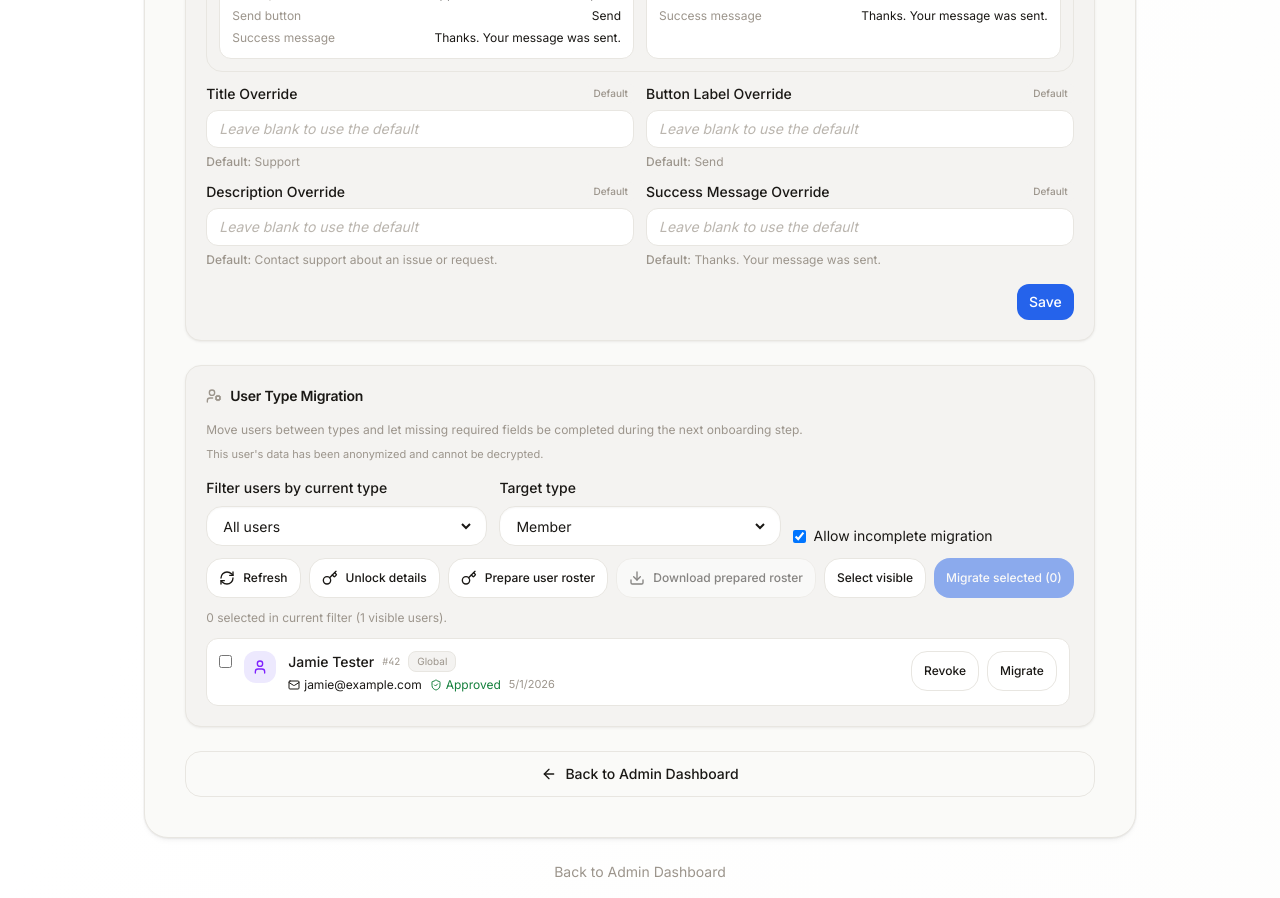
Test: AdminUserConfig › shows User Type migration results as a named status note after a batch migration
(page scrolled)
expect the heading "User Type Migration" is shown: met, box [206,387,363,404]
expect the text "Jamie Tester" is shown: met, box [288,652,374,672]
Click the button "Select visible". click: (875, 578)
box: [824,558,926,598]
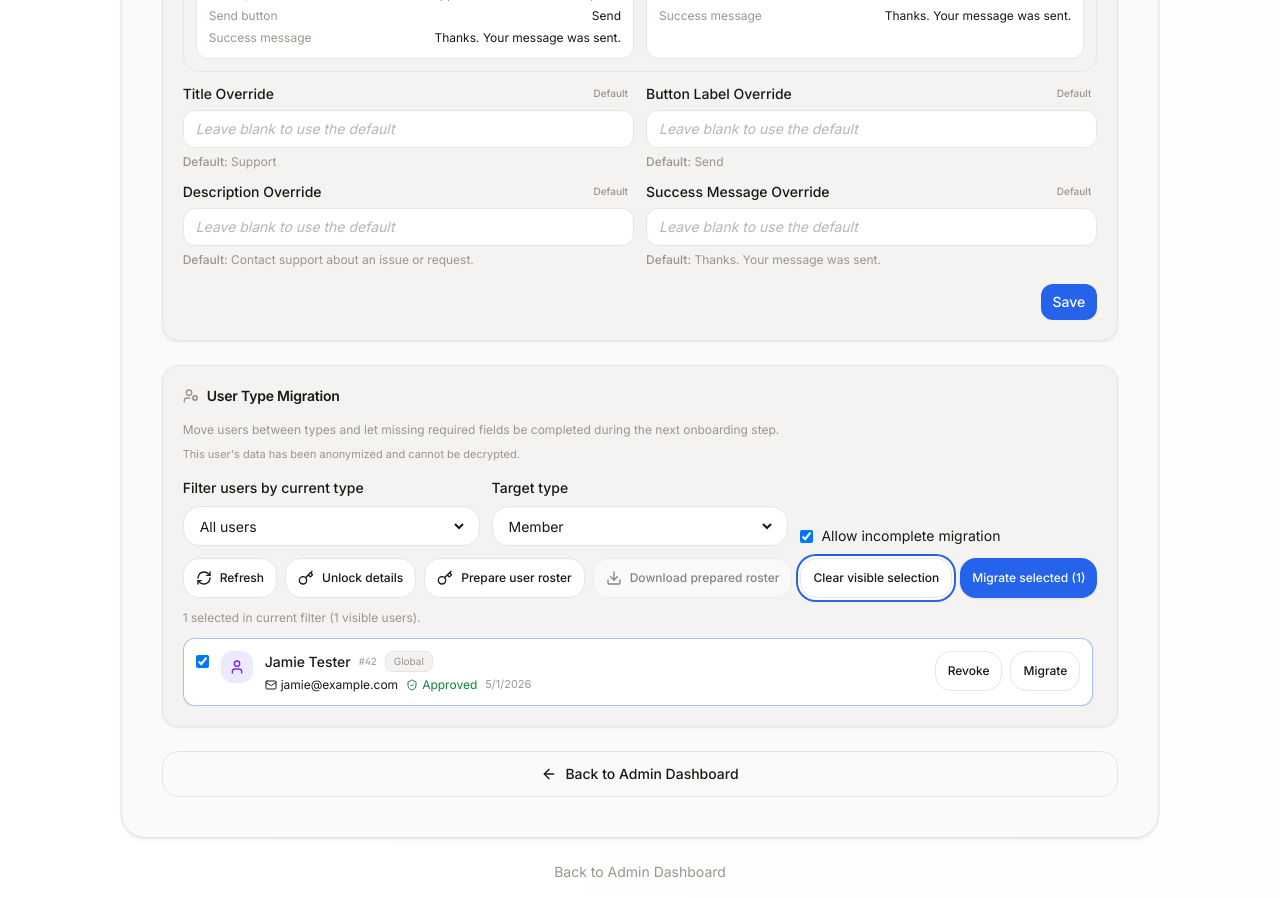
expect the button "Migrate selected (1)" is enabled: met
Click the button "Migrate selected (1)". click: (1029, 578)
box: [960,558,1097,598]
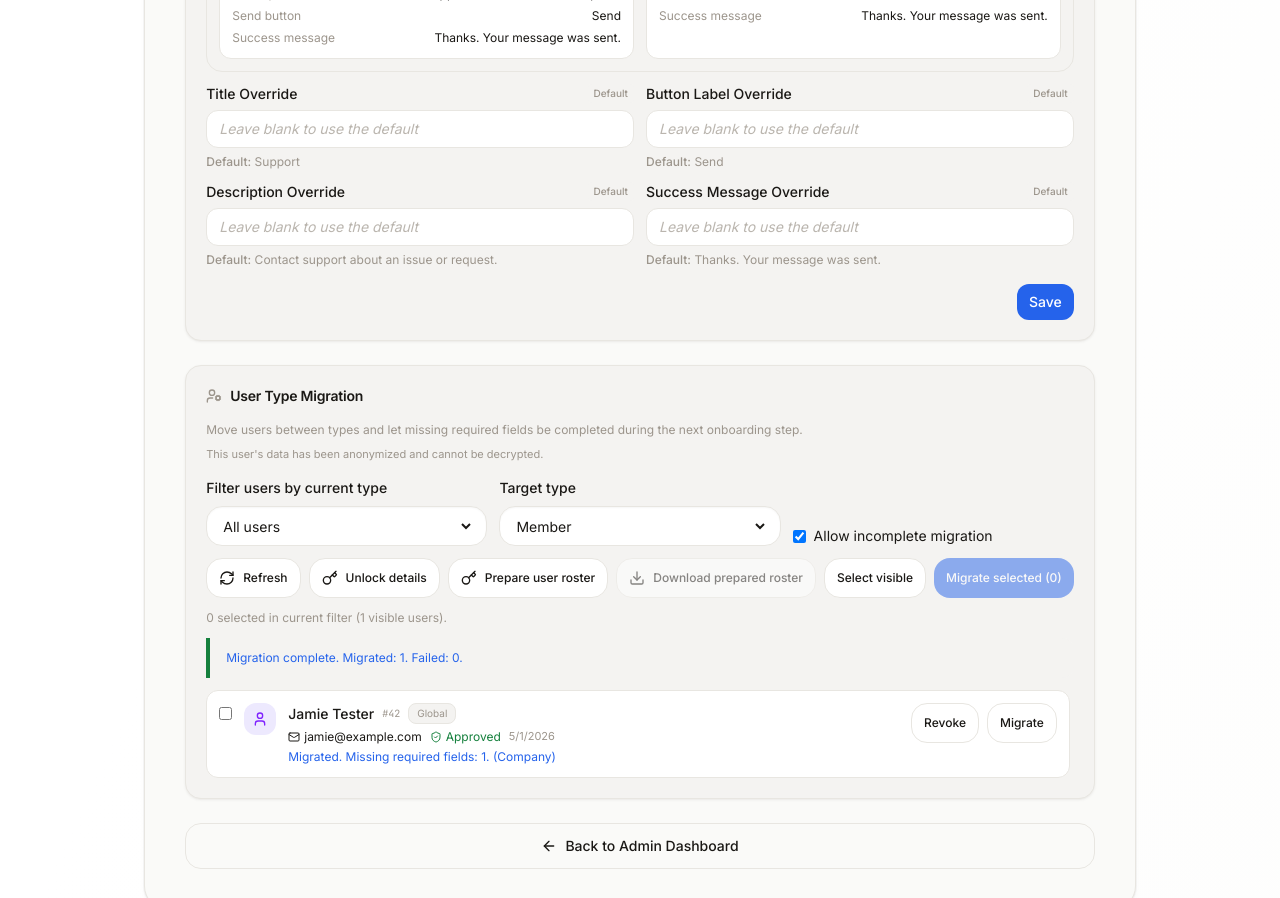
expect the element named "User type migration summary" reads "Migration complete. Migrated: 1. Failed: 0.": met, box [226,650,463,665]
